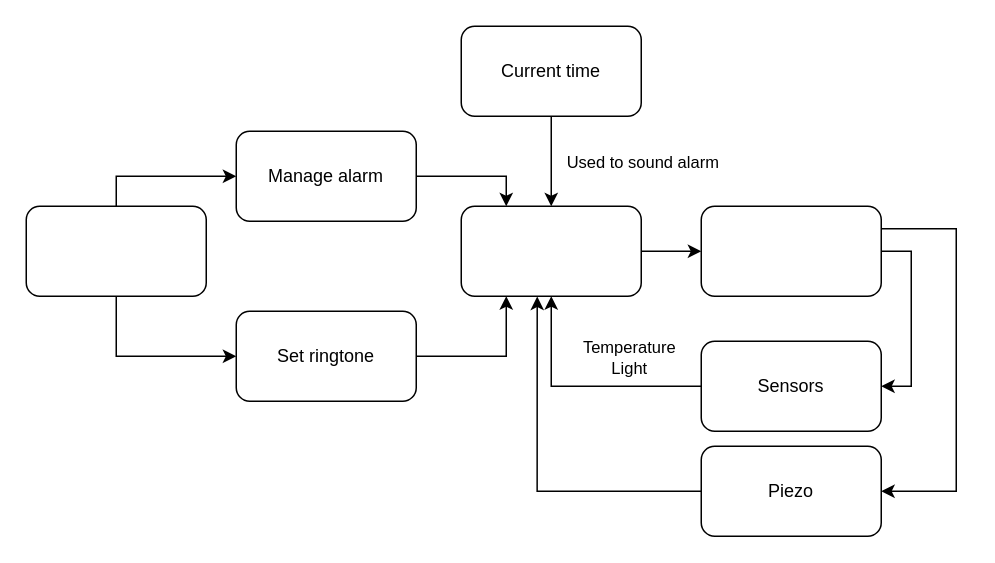
The diagram is 995 pixels wide and 563 high, and some of its shapes have lost their labels. Each missing label, with the centre of its shape:
Alarm system: (x=790, y=250)
Controller: (x=550, y=250)
Menu selection: (x=115, y=250)
